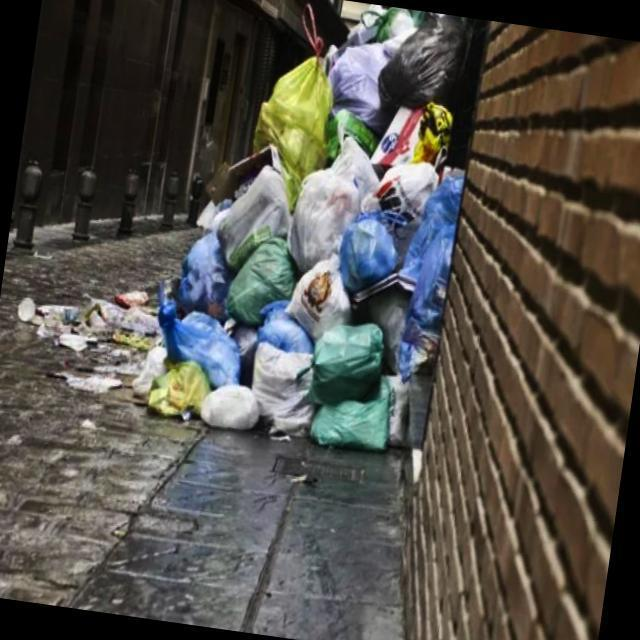garbage: (170, 0, 482, 462), (0, 252, 191, 419)
